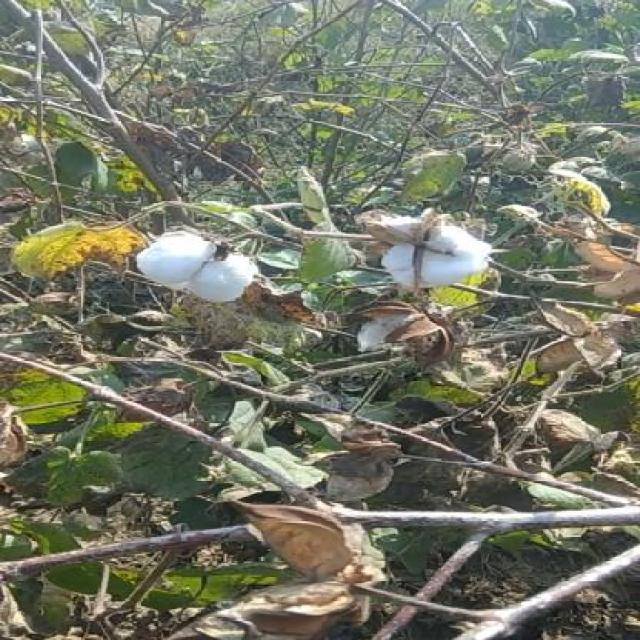cotton_ready: (358, 200, 500, 300), (125, 236, 268, 307)
